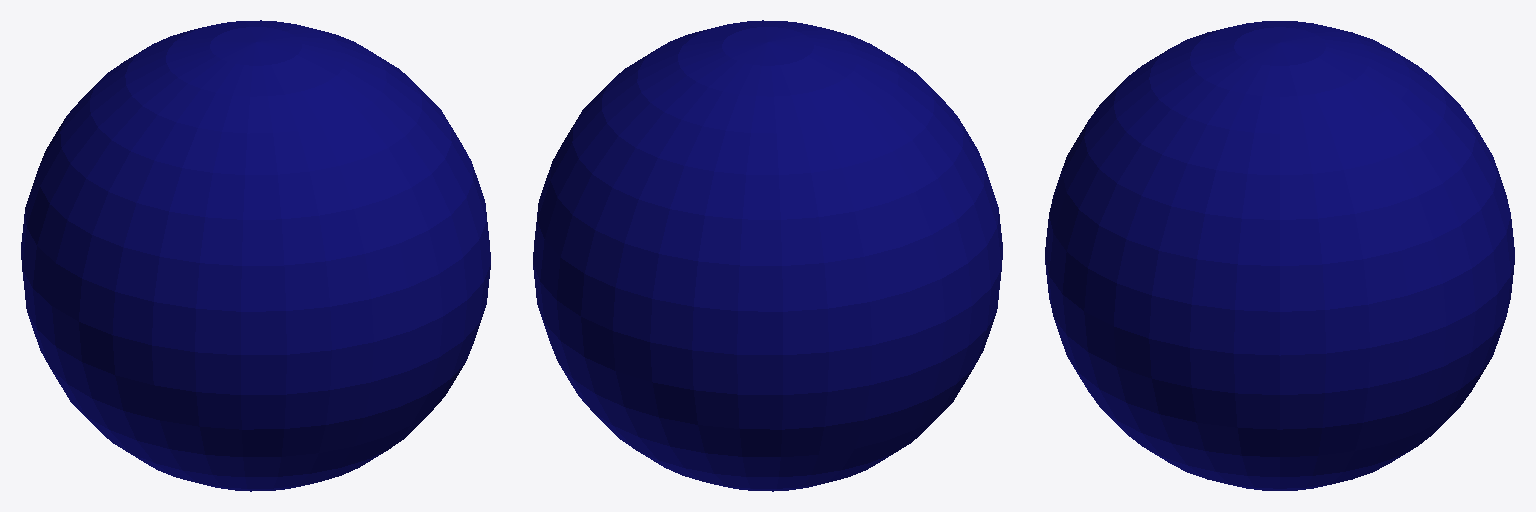
The robot description file, URDF, robot "squareball":
<?xml version="1.0"?>
<robot name="squareball">
  <material name="blockmat">
    <color rgba="0.1 0.1 0.5 1"/>
  </material>

  <link name="origin">
    <contact>
      <lateral_friction value="1.0"/>
      <spinning_friction value=".0001"/>
    </contact>
    <inertial>
      <origin rpy="0 0 0" xyz="0 0 0"/>
      <mass value="0.01"/>
      <inertia ixx="0" ixy="0" ixz="0" iyy="0" iyz="0" izz="0"/>
    </inertial>
    <visual>
      <origin rpy="0 0 0" xyz="0.0 0.0 0.0"/>
      <geometry>
        <sphere radius="0.015"/>
      </geometry>
      <material name="blockmat"/>
    </visual>
    <collision>
      <origin rpy="0 0 0" xyz="0.0 0.0 0.0"/>
      <geometry>
        <box size="0.03 0.01 0.01"/>
      </geometry>
    </collision>
    <collision>
      <origin rpy="0 0 0" xyz="0.0 0.0 0.0"/>
      <geometry>
        <box size="0.01 0.03 0.01"/>
      </geometry>
    </collision>
    <collision>
      <origin rpy="0 0 0" xyz="0.0 0.0 0.0"/>
      <geometry>
        <box size="0.01 0.01 0.03"/>
      </geometry>
    </collision>
  </link>

  

  
</robot>

--- What the picture shows (computed from the rendered views, not written in the file) ---
3 views of the same robot in one strip: view 1: azimuth 30°, elevation 25°; view 2: azimuth 150°, elevation 25°; view 3: azimuth 270°, elevation 25° (orthographic).
Model squareball with 1 links and 0 joints (none), rooted at origin, posed all joints at 0.
Visible links, largest first — view 1: origin; view 2: origin; view 3: origin.
Boxes of the visible links, x1,y1,x2,y2 form: origin: (21,20,490,491); origin: (533,20,1002,491); origin: (1045,21,1514,490).
Bounding box of the posed robot: 0.03 × 0.03 × 0.03 m (x, y, z).
Geometry: primitives only (box / cylinder / sphere), no mesh files.